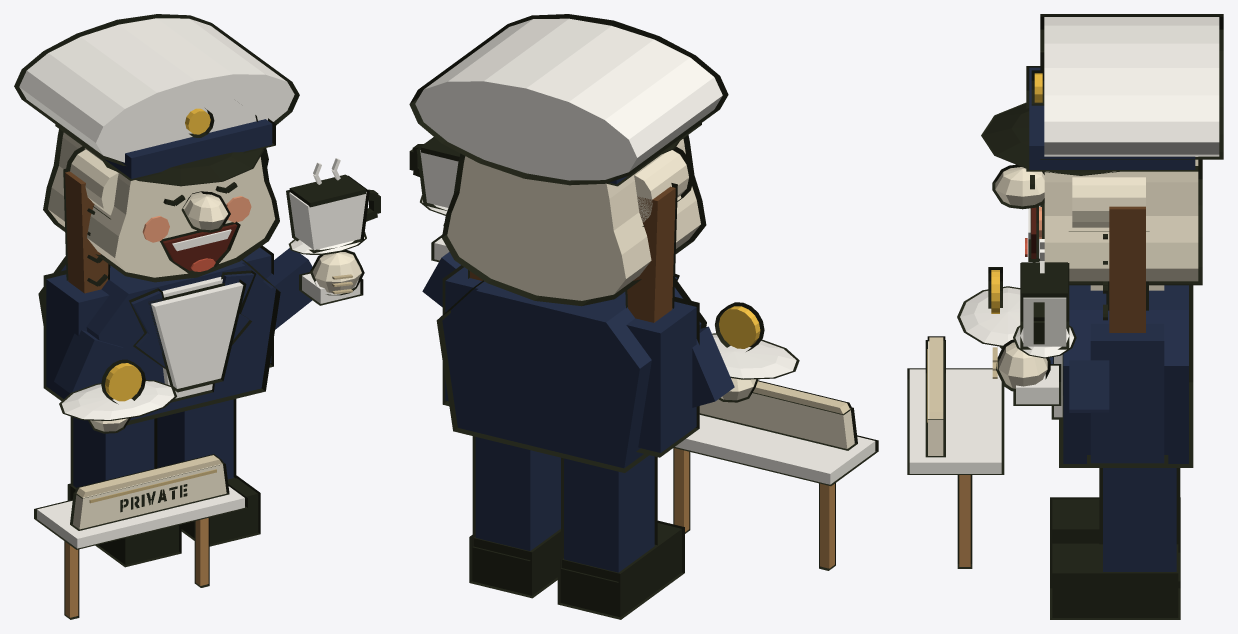
3 views of the same model, side by side, from view 1: azimuth 30°, elevation 25°; view 2: azimuth 150°, elevation 25°; view 3: azimuth 270°, elevation 25° (orthographic). The views are drawn at different scales.
Visible parts, largest first — view 1: Link Marine; view 2: Link Marine; view 3: Link Marine.
Boxes of the visible parts, x1,y1,x2,y2 form: Link Marine: (14, 14, 380, 619); Link Marine: (409, 14, 878, 619); Link Marine: (907, 14, 1223, 619).
Bounding box in the file's own units: 0.7725 × 0.9752 × 0.5155.
